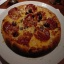olive: (13, 30, 19, 38), (43, 22, 49, 29), (38, 14, 42, 23), (12, 21, 17, 26)
pepperoni: (33, 27, 50, 42), (14, 31, 31, 46), (4, 22, 20, 34), (9, 7, 21, 20), (24, 17, 37, 28)
pizza: (3, 6, 58, 52)
